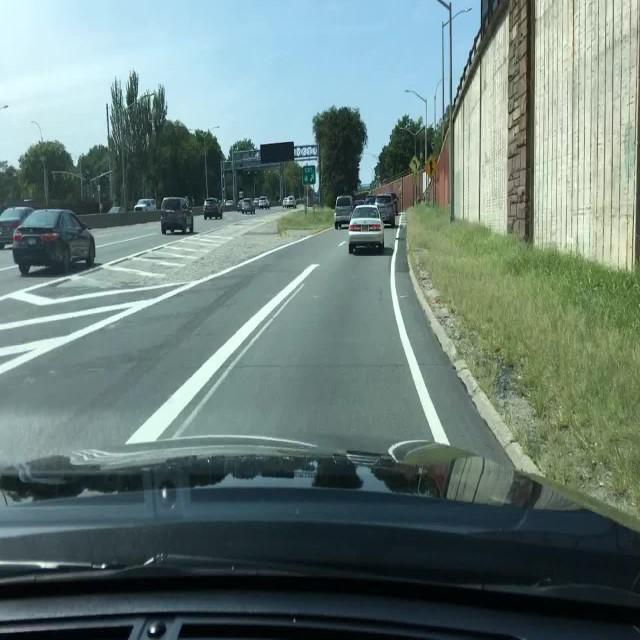normal: (11, 208, 98, 274), (347, 206, 385, 253), (0, 206, 34, 248), (159, 196, 195, 235), (359, 194, 396, 228), (203, 197, 223, 219), (133, 198, 156, 212), (256, 197, 269, 210), (282, 196, 295, 209)
